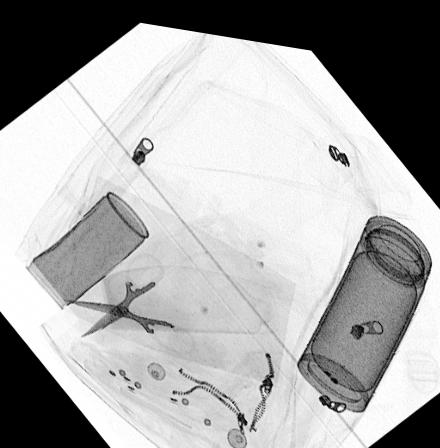Scissors: (60, 245, 197, 349)
